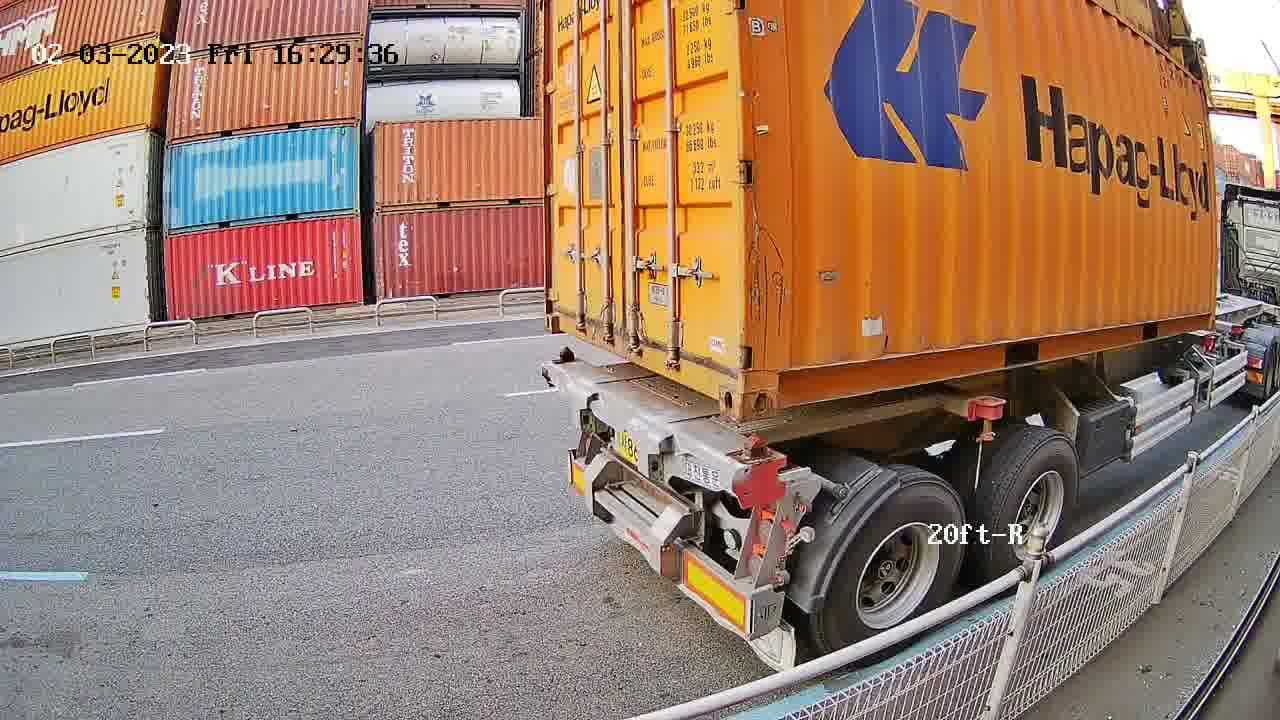Chassis: (541, 357, 785, 498)
Cone: (740, 436, 770, 504), (555, 346, 575, 363)
Hole_L: (741, 336, 814, 422), (544, 291, 576, 337)
Hole_R: (697, 333, 741, 423)
Tire: (819, 478, 966, 667), (992, 432, 1079, 588)
